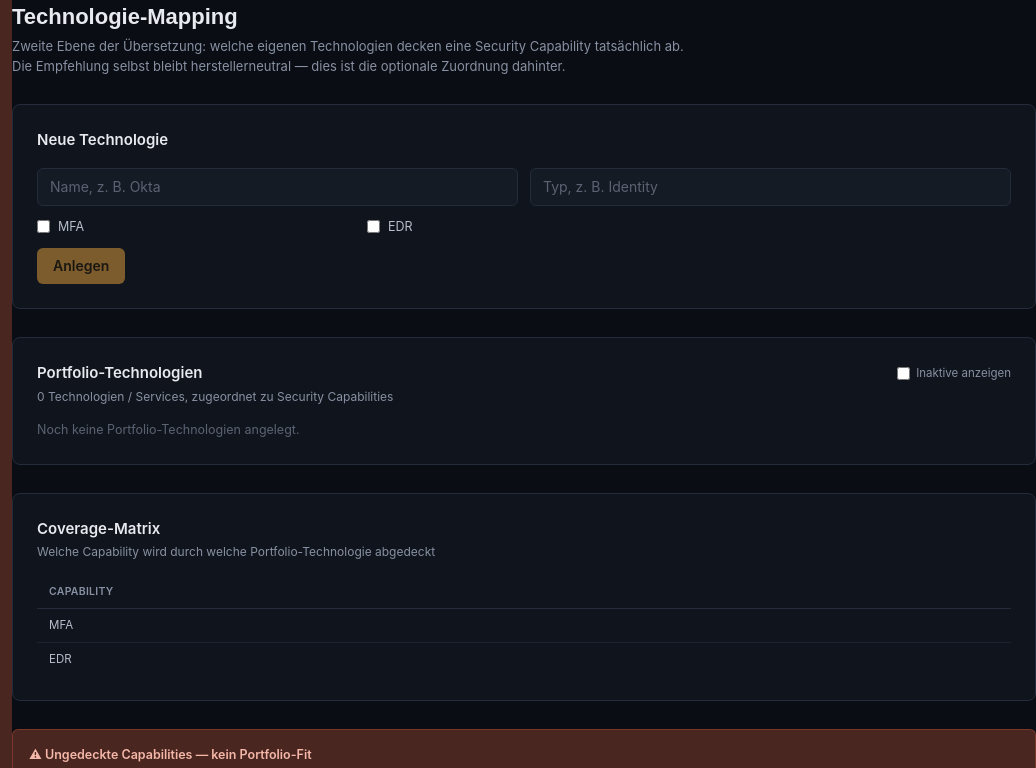
Portfolio › deaktiviert den Anlegen-Button, bis Name und Typ ausgefüllt sind
Expected: the text "MFA" is shown, [37,218,84,234]
Expected: the button "Anlegen" is disabled, [37,248,125,284]
Type "Okta" into the field with placeholder "Name, z. B. Okta".
click(278, 186); type("Okta")  # box [37,168,518,206]
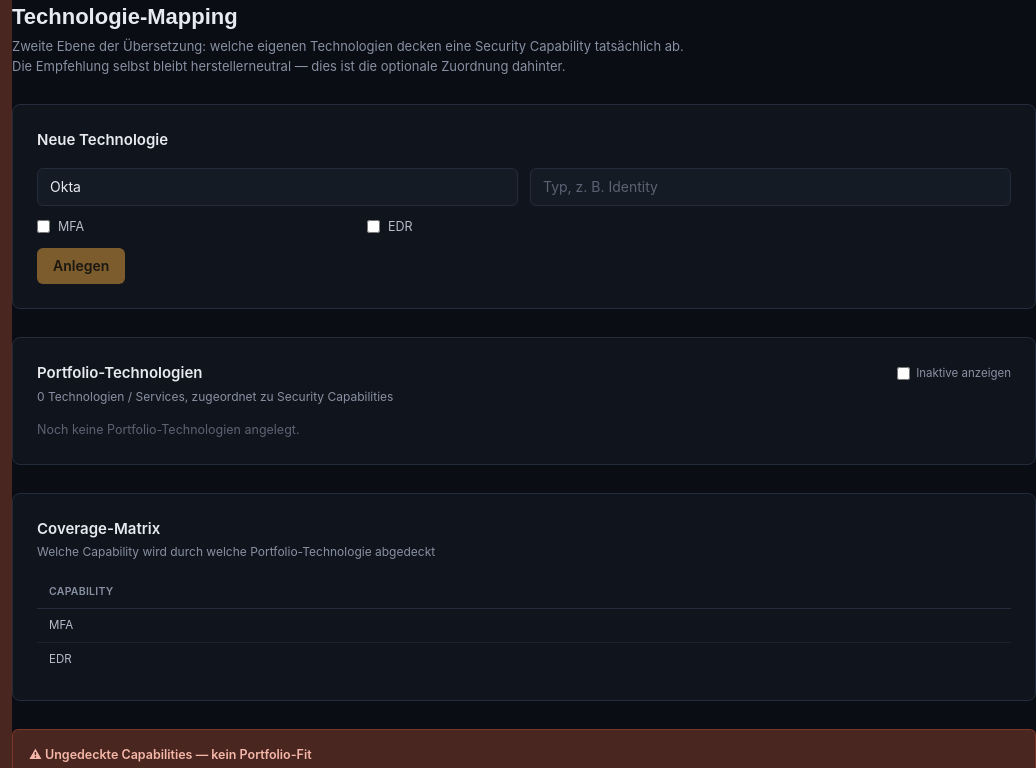
Expected: the button "Anlegen" is disabled, [37,248,125,284]
Type "Identity" into the field with placeholder "Typ, z. B. Identity".
click(770, 186); type("Identity")  # box [530,168,1011,206]
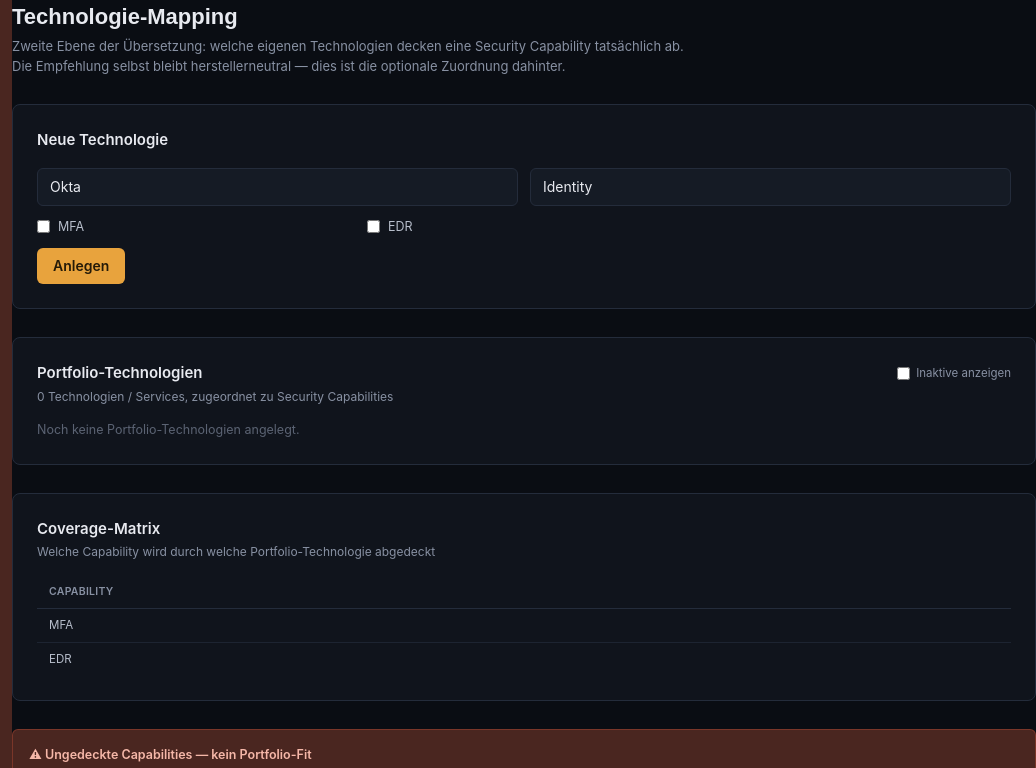
Expected: the button "Anlegen" is enabled, [37,248,125,284]
